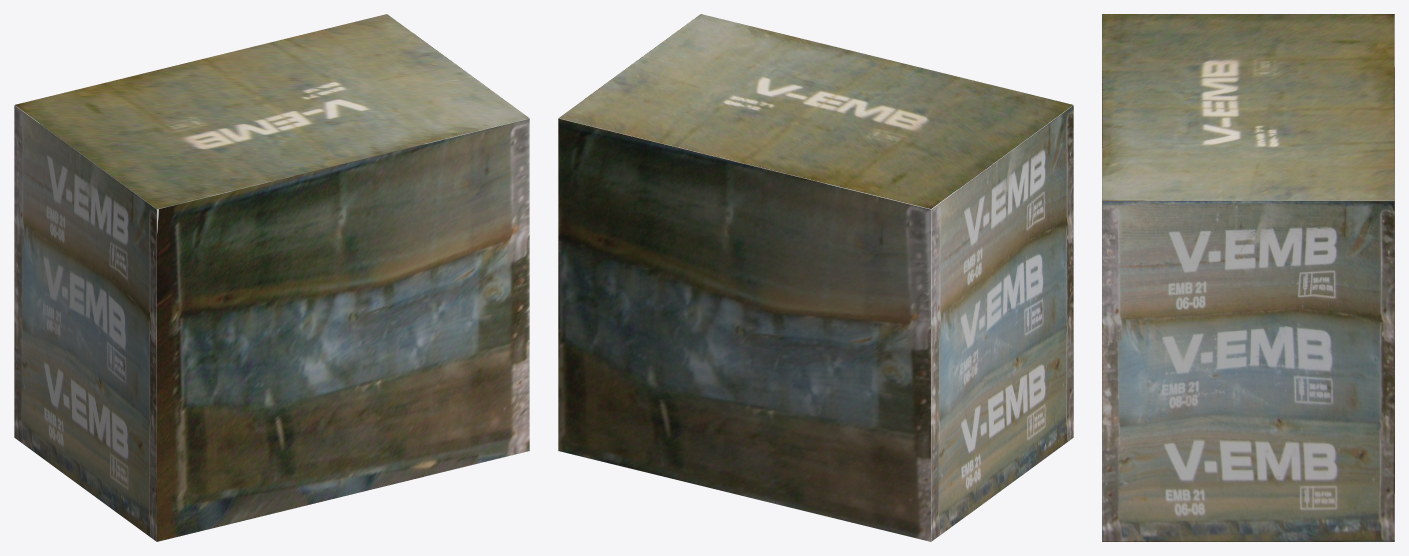
3 renders of one model, left to right at view 1: azimuth 30°, elevation 25°; view 2: azimuth 150°, elevation 25°; view 3: azimuth 270°, elevation 25°, orthographic. The views are drawn at different scales.
Visible parts, largest first — view 1: tmp_export_Body; view 2: tmp_export_Body; view 3: tmp_export_Body.
Boxes of the visible parts, <box> form: tmp_export_Body: <box>14,14,529,541</box>; tmp_export_Body: <box>558,14,1073,541</box>; tmp_export_Body: <box>1102,14,1394,541</box>.
Size of the model in its own units: 1.18 by 0.785 by 1.01.
1 material, 1 textured.
